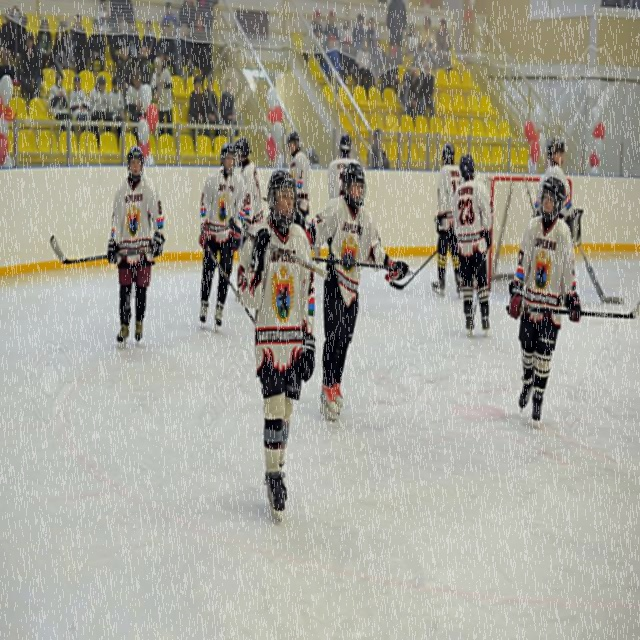pessoa: (235, 164, 318, 530), (300, 160, 408, 417), (504, 172, 582, 428), (104, 144, 167, 346), (196, 139, 244, 334), (450, 151, 497, 341), (430, 142, 464, 302), (530, 135, 575, 224), (233, 135, 266, 252), (148, 54, 176, 158), (178, 0, 218, 66), (326, 130, 364, 198), (124, 66, 153, 152), (286, 130, 310, 231), (86, 73, 113, 149), (108, 15, 134, 80), (49, 70, 75, 134), (20, 30, 43, 98), (9, 3, 28, 84), (354, 34, 376, 100), (399, 62, 424, 118), (68, 74, 92, 132), (386, 0, 407, 64), (322, 34, 343, 95), (202, 74, 222, 138), (69, 13, 89, 76), (175, 17, 193, 86), (304, 8, 324, 70), (416, 58, 436, 118), (87, 17, 106, 80), (188, 76, 204, 150), (52, 16, 70, 79), (220, 77, 238, 137), (366, 128, 391, 170), (435, 18, 453, 72), (158, 36, 182, 76), (106, 75, 125, 122), (36, 18, 53, 70), (141, 18, 158, 65), (364, 15, 378, 70), (0, 18, 16, 66), (135, 44, 153, 86), (116, 44, 134, 84), (406, 21, 424, 60), (125, 34, 142, 69), (161, 1, 178, 36), (420, 15, 436, 49), (96, 1, 112, 34), (352, 13, 366, 48), (338, 16, 354, 46), (324, 10, 339, 40), (203, 65, 214, 93), (340, 36, 352, 44)
